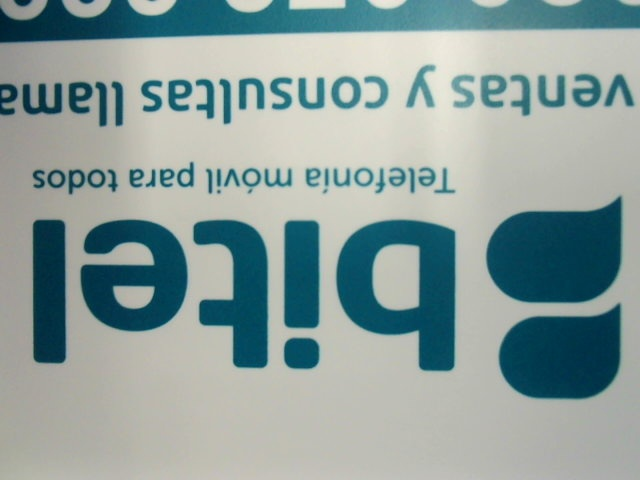BE_bitel: (18, 190, 630, 405)
